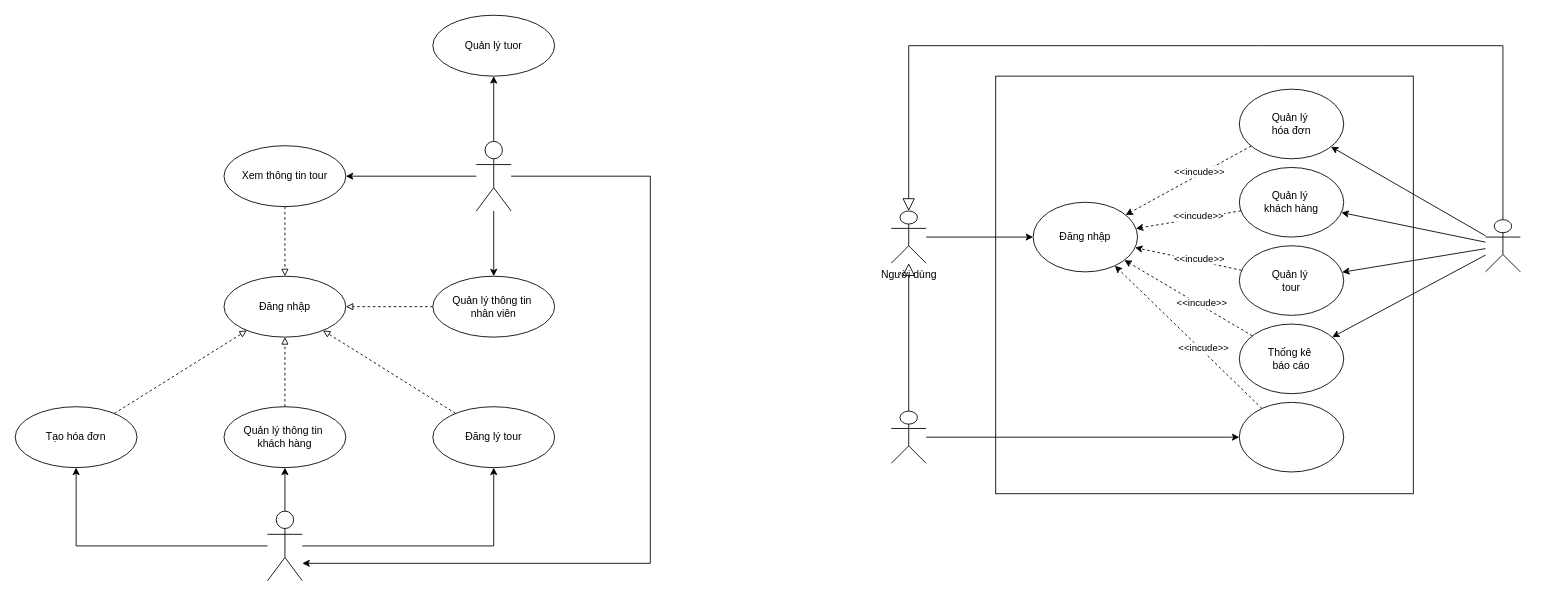
The diagram is 1564 pixels wide and 614 high, and some of its shapes have lost their labels. Each missing label, with the box of its shape:
Người quản lý: (475, 141, 511, 211)
Nhân viên: (267, 510, 302, 581)
Nhân viên bán hàng: (1485, 219, 1520, 272)
Quản lý cửa hàng: (890, 410, 926, 463)
Quản lý nhân viên: (1238, 402, 1344, 472)
